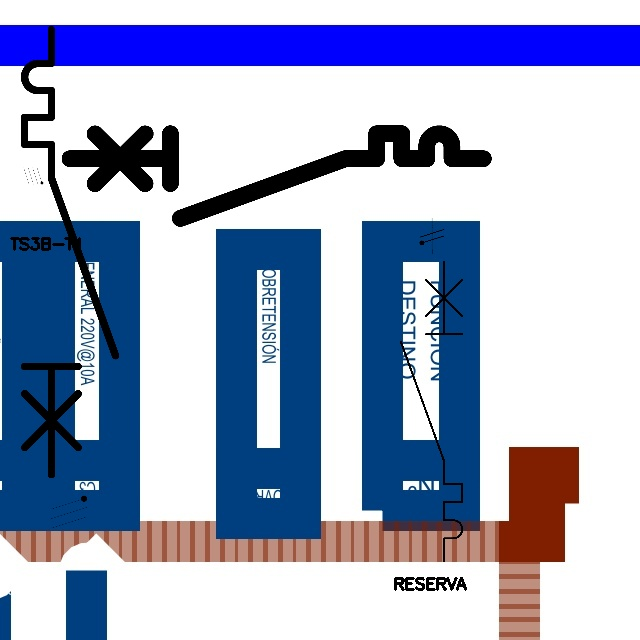interruptor_termomagnetico: (13, 18, 127, 486), (59, 123, 494, 229), (393, 253, 470, 568)
